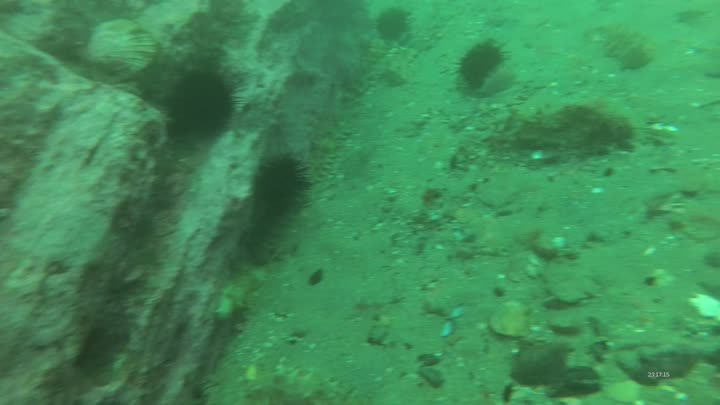echinus: (161, 68, 237, 142), (245, 153, 310, 229), (454, 36, 511, 91), (375, 7, 411, 42)
holothurian: (241, 366, 366, 405), (305, 127, 339, 189)
scallop: (83, 18, 161, 87)
